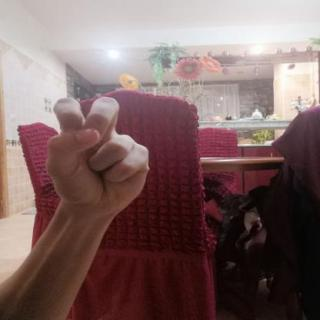QAAF: (27, 89, 162, 226)
